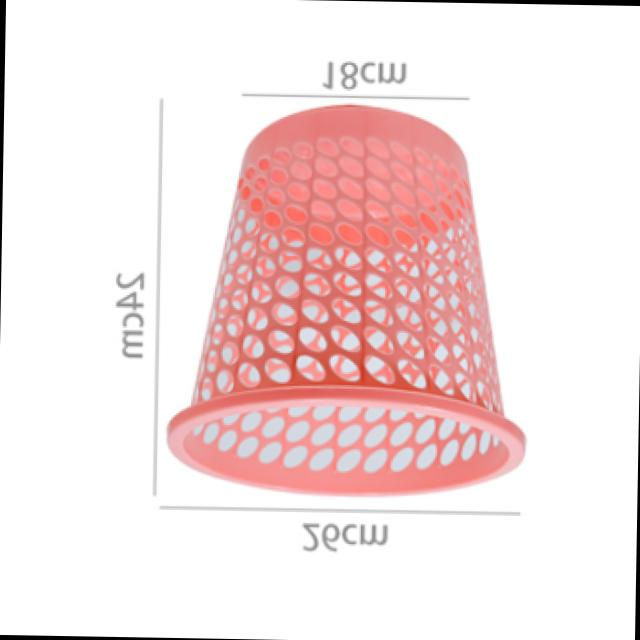dustbin: (160, 98, 538, 504)
